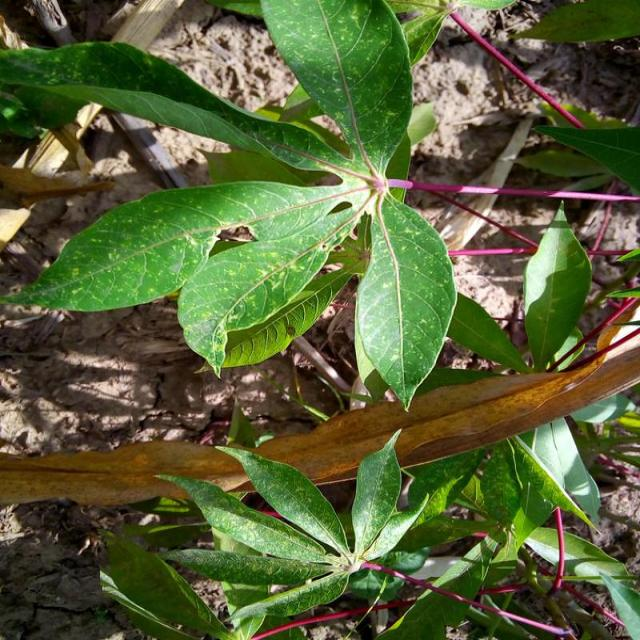cassava leaf: (2, 0, 458, 409), (259, 0, 413, 179), (353, 190, 458, 411), (522, 198, 592, 372)
